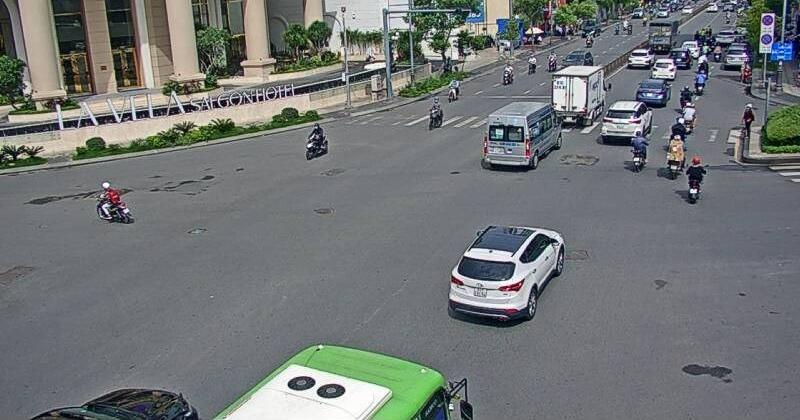xe hoi: (444, 223, 565, 327), (600, 100, 651, 140)
xe may: (97, 183, 134, 223), (685, 154, 707, 202), (304, 122, 330, 160), (630, 129, 646, 171)
xe tai: (550, 64, 605, 125)
xe van: (483, 100, 562, 171)
